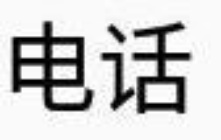TextView: (1, 1, 220, 139)
